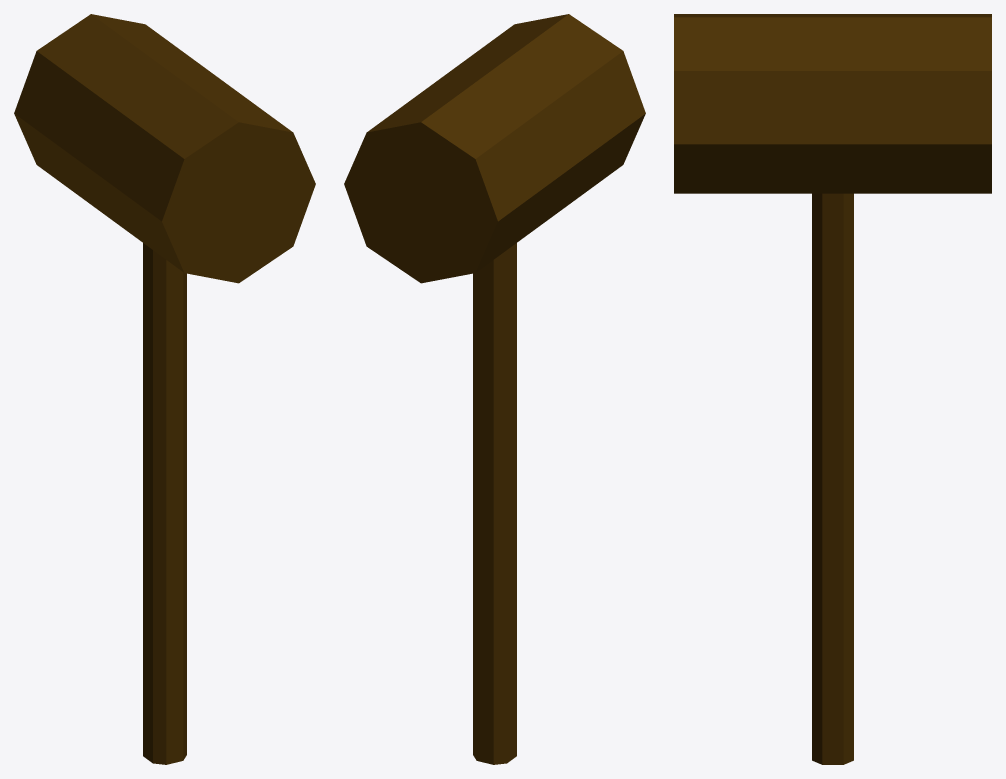
The model's file is Hammer.fbx.
The picture shows the model from 3 angles, left to right: view 1: azimuth 30°, elevation 25°; view 2: azimuth 150°, elevation 25°; view 3: azimuth 270°, elevation 25°; orthographic projection. The views are drawn at different scales.
Parts seen in each view (by area): view 1: pCube4; view 2: pCube4; view 3: pCube4.
Part boxes in pixels (x1=…): pCube4: x1=14, y1=14, x2=315, y2=764; pCube4: x1=344, y1=14, x2=645, y2=764; pCube4: x1=674, y1=14, x2=991, y2=764.
Size of the model in its own units: 0.4377 by 1.87 by 0.7278.
